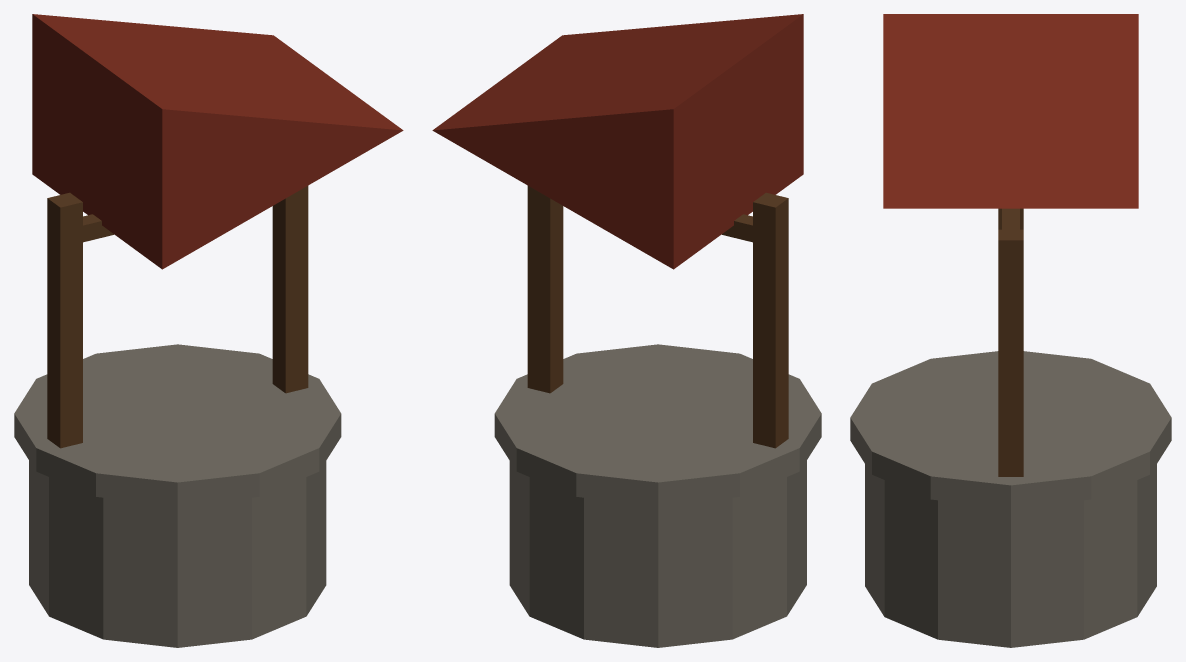
File: prop_well.glb
The picture shows the model from 3 angles, left to right: view 1: azimuth 30°, elevation 25°; view 2: azimuth 150°, elevation 25°; view 3: azimuth 270°, elevation 25°; orthographic projection.
Visible parts, largest first — view 1: roof, wall, rim, post_l, post_r; view 2: roof, wall, rim, post_l, post_r; view 3: roof, wall, rim, post_r.
Boxes of the visible parts, <box> form: roof: <box>32,14,403,269</box>; wall: <box>29,460,326,647</box>; rim: <box>14,344,341,505</box>; post_l: <box>47,192,82,448</box>; post_r: <box>272,186,308,393</box>; roof: <box>432,14,803,269</box>; wall: <box>509,460,806,647</box>; rim: <box>494,344,821,505</box>; post_l: <box>753,192,788,448</box>; post_r: <box>527,186,563,393</box>; roof: <box>883,14,1138,208</box>; wall: <box>865,464,1156,647</box>; rim: <box>850,351,1171,508</box>; post_r: <box>998,229,1023,476</box>.
Bounding box in the file's own units: 1.88 × 3.23 × 1.76.
